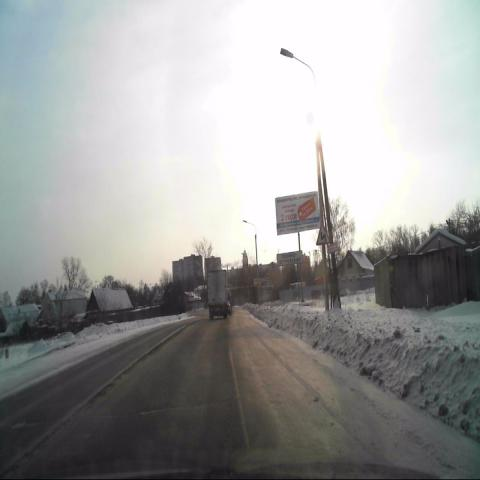1_12_2: (316, 224, 330, 245)
